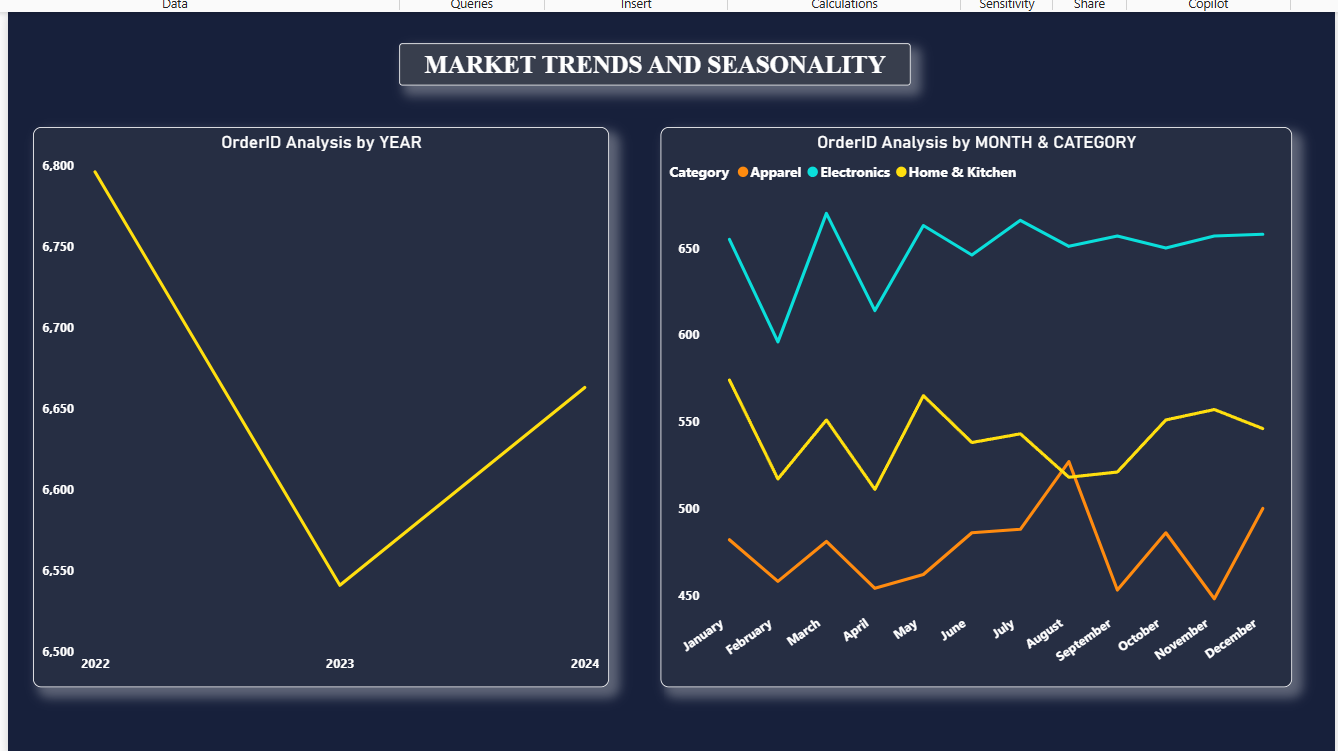

What the dashboard file says about the page in this screenshot:
{"tool":"powerbi","page":{"name":"MARKET TRENDS AND SEASONALITY","canvas":[1280,720],"ordinal":4},"visuals":[{"type":"lineChart","title":"OrderID Analysis by YEAR","fields":{"Y":["CountNonNull(Sales.CustomerID)"],"Category":["Sales.OrderDate.Variation.Date Hierarchy.Year"]},"box":[24.7,111.1,555.7,540.7],"z":0},{"type":"lineChart","title":"OrderID Analysis by MONTH & CATEGORY","fields":{"Category":["Sales.OrderDate.Variation.Date Hierarchy.Month"],"Series":["Products.Category"],"Y":["CountNonNull(Sales.OrderID)"]},"box":[629.8,111.1,609.3,540.7],"z":1000},{"type":"textbox","box":[377.4,30.2,494,41.2],"z":2000}]}

Visuals, with their boxes on the page's 1280x720 design canvas (x1, y1, x2, y2). These are canvas units, not pixel positions in the 1338x751 screenshot, which may show the page scaled, cropped or inside an application window:
"OrderID Analysis by YEAR" lineChart: [25,111,580,652]
"OrderID Analysis by MONTH & CATEGORY" lineChart: [630,111,1239,652]
textbox: [377,30,871,71]
